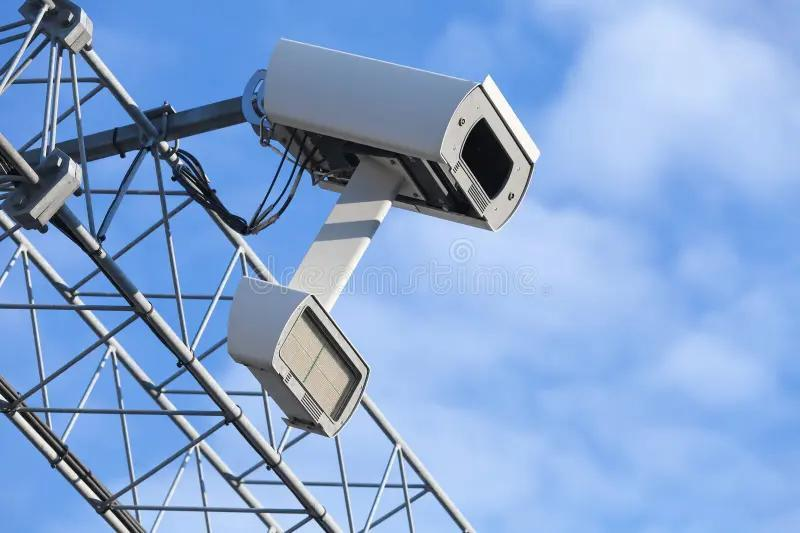Monitor: (253, 36, 540, 233), (226, 275, 370, 438)
